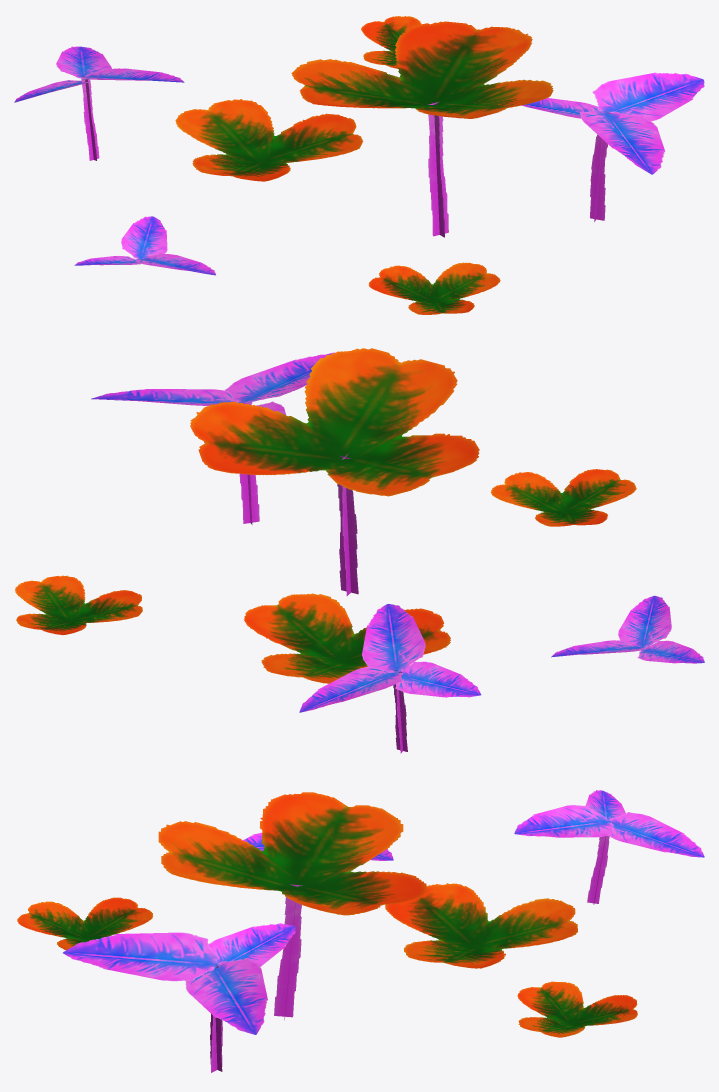
The model's file is SM_Clover_clump_2_.fbx.
3 views of the same model, one above another, from view 1: azimuth 30°, elevation 25°; view 2: azimuth 150°, elevation 25°; view 3: azimuth 270°, elevation 25° (orthographic). The views are drawn at different scales.
Visible parts, largest first — view 1: SM_Clover_clump_2__LOD0; view 2: SM_Clover_clump_2__LOD0; view 3: SM_Clover_clump_2__LOD0.
Part boxes in pixels (x1,y1,x2,y2): SM_Clover_clump_2__LOD0: (14,16,704,314); SM_Clover_clump_2__LOD0: (15,348,704,753); SM_Clover_clump_2__LOD0: (17,790,704,1072).
Bounding box in the file's own units: 29.05 × 28.3 × 8.04.
